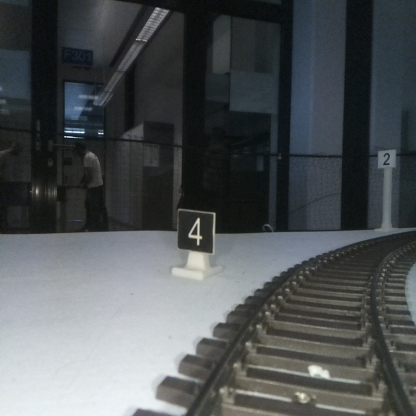black-stop-4: (177, 211, 213, 274)
white-info-2: (377, 148, 396, 231)
